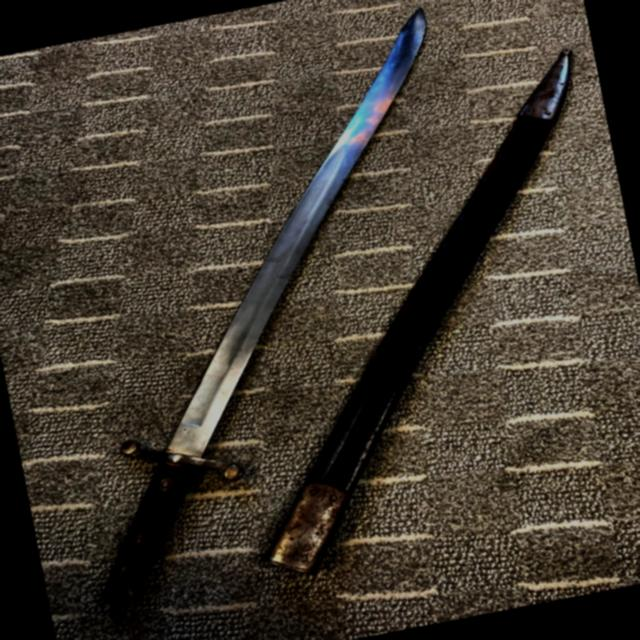short sword: (0, 0, 538, 625)
